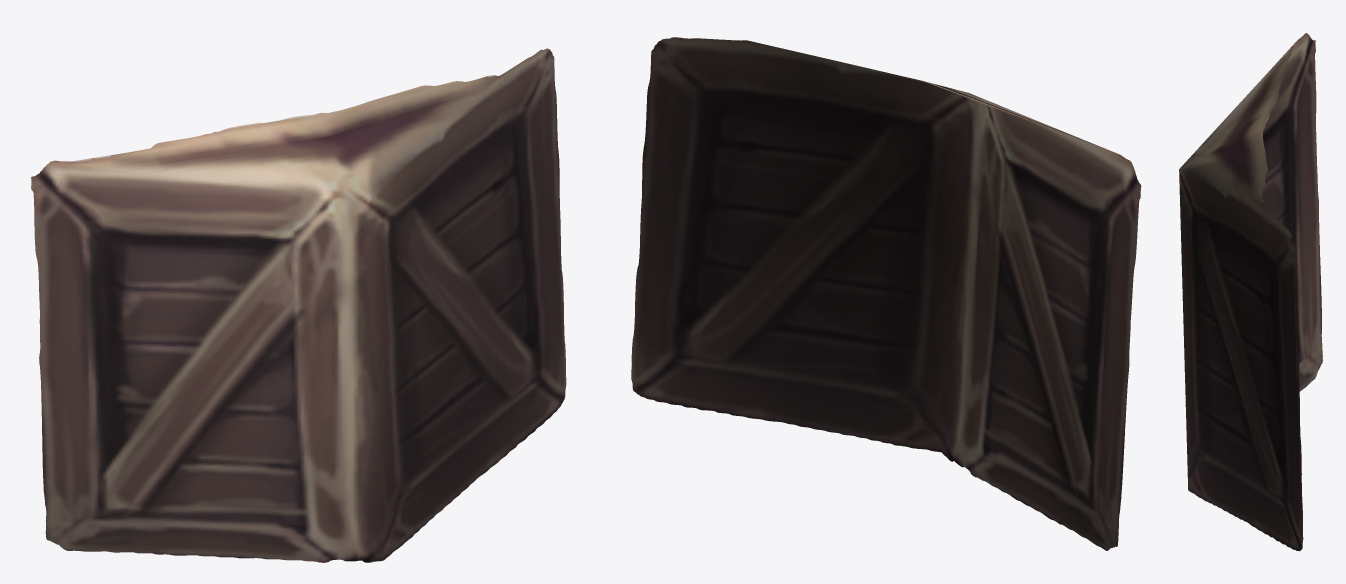
Rendered from Crate B.FBX.
3 renders of one model, left to right at view 1: azimuth 30°, elevation 25°; view 2: azimuth 150°, elevation 25°; view 3: azimuth 270°, elevation 25°, orthographic. The views are drawn at different scales.
Visible parts, largest first — view 1: Crate B; view 2: Crate B; view 3: Crate B.
Part boxes in pixels (x1,y1,x2,y2): Crate B: (31,48,566,562); Crate B: (631,37,1141,550); Crate B: (1179,33,1322,551).
Bounding box in the file's own units: 328 × 91.44 × 255.
